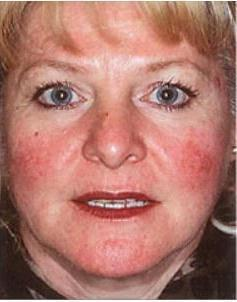Drunk: (14, 8, 227, 271)
